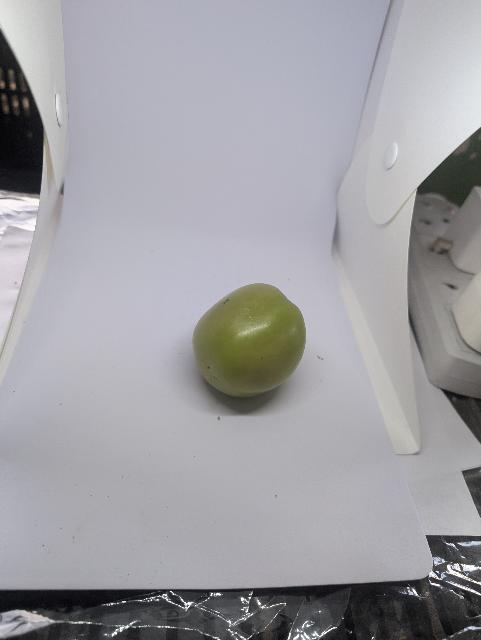green: (176, 256, 320, 418)
